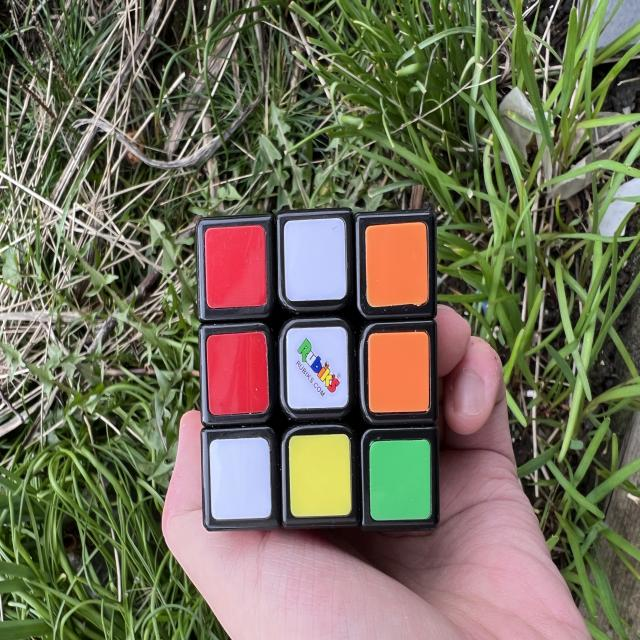center: (284, 326, 348, 411)
green: (369, 439, 432, 521)
orange: (364, 222, 429, 308), (367, 331, 430, 413)
red: (205, 331, 270, 416), (204, 225, 267, 309)
white: (283, 218, 347, 301), (209, 437, 271, 520)
yellow: (288, 433, 352, 518)
